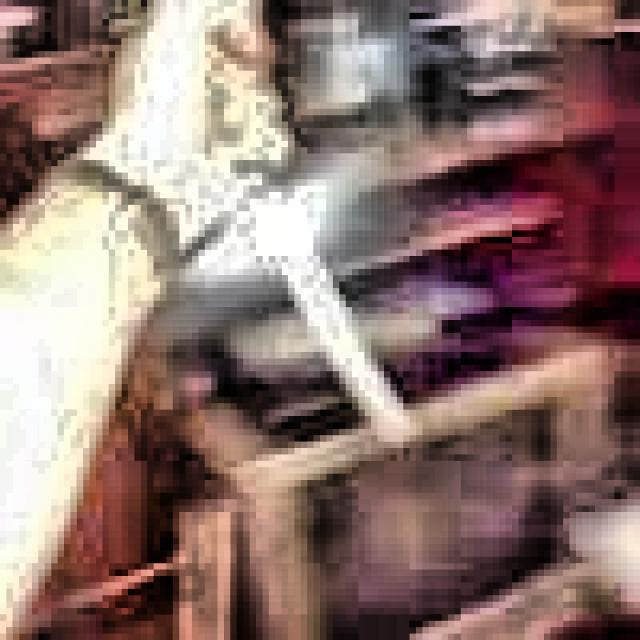knife: (208, 98, 408, 452)
